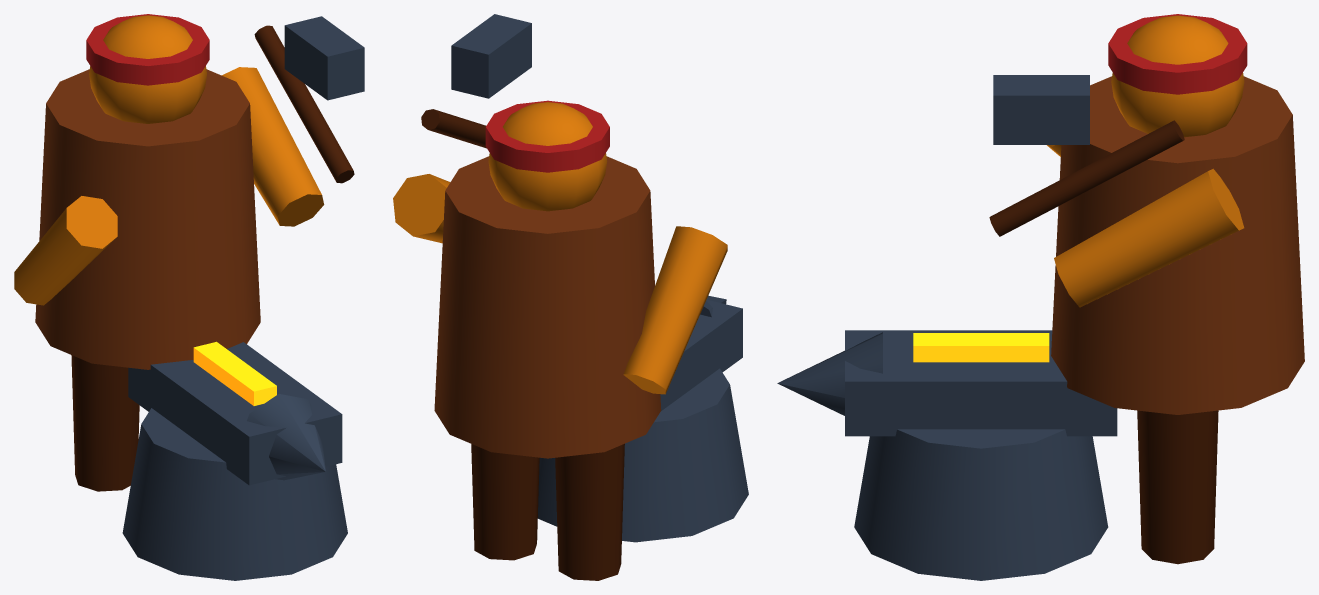
The model's file is npc_han_blacksmith.glb.
3 renders of one model, left to right at view 1: azimuth 30°, elevation 25°; view 2: azimuth 150°, elevation 25°; view 3: azimuth 270°, elevation 25°, orthographic. The views are drawn at different scales.
Parts seen in each view (by area): view 1: NPC_HANZO_THE_BLACKSMITH; view 2: NPC_HANZO_THE_BLACKSMITH; view 3: NPC_HANZO_THE_BLACKSMITH.
Part boxes in pixels (<box>): NPC_HANZO_THE_BLACKSMITH: <box>14,14,364,580</box>; NPC_HANZO_THE_BLACKSMITH: <box>393,14,748,580</box>; NPC_HANZO_THE_BLACKSMITH: <box>777,14,1304,580</box>.
Bounding box in the file's own units: 1.14 × 1.84 × 1.74.
